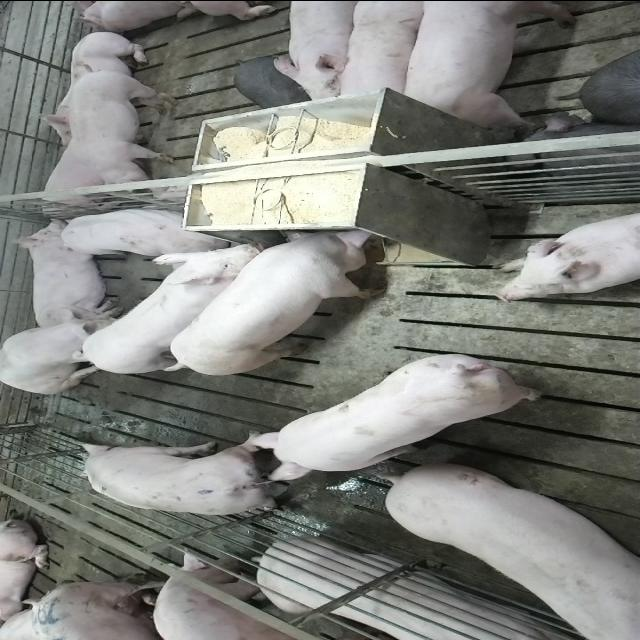Feeding: (164, 218, 390, 370)
Lateral_lying: (148, 538, 586, 640)
Sitting: (1, 307, 132, 394), (60, 204, 220, 258)
Standing: (383, 467, 640, 640), (247, 347, 553, 475), (76, 242, 274, 378), (396, 1, 579, 131), (74, 434, 296, 517), (67, 65, 176, 190), (330, 3, 430, 105), (274, 0, 369, 105)
Sternal_lying: (30, 31, 158, 145), (491, 207, 640, 302), (13, 217, 129, 326), (36, 140, 120, 213)
